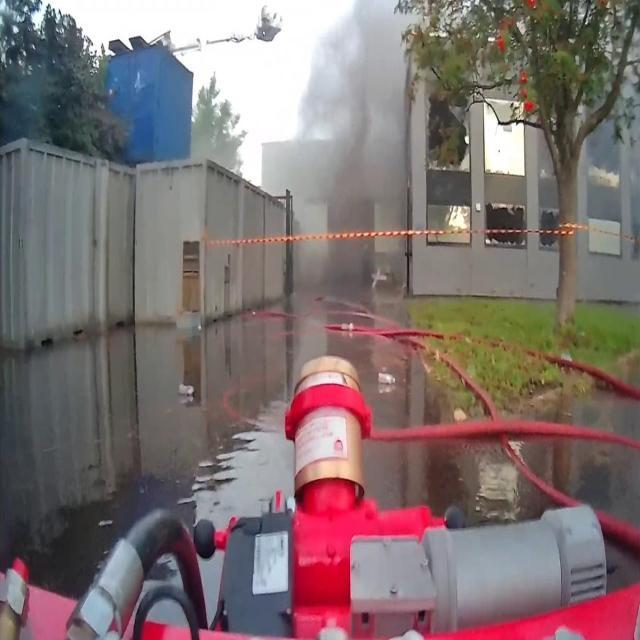Fire: (484, 98, 524, 174), (446, 204, 468, 229)
Smoke: (292, 0, 433, 297)
